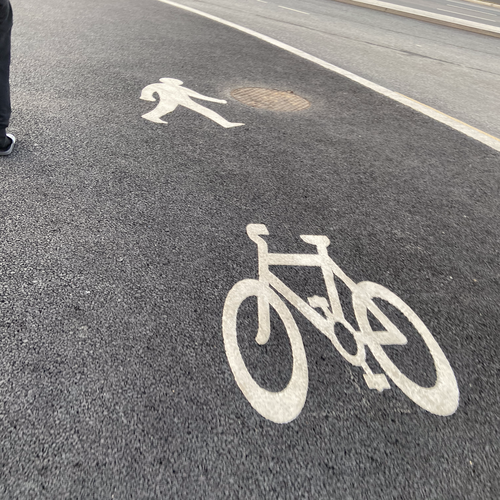Bicycle Crossing: (195, 207, 464, 425)
